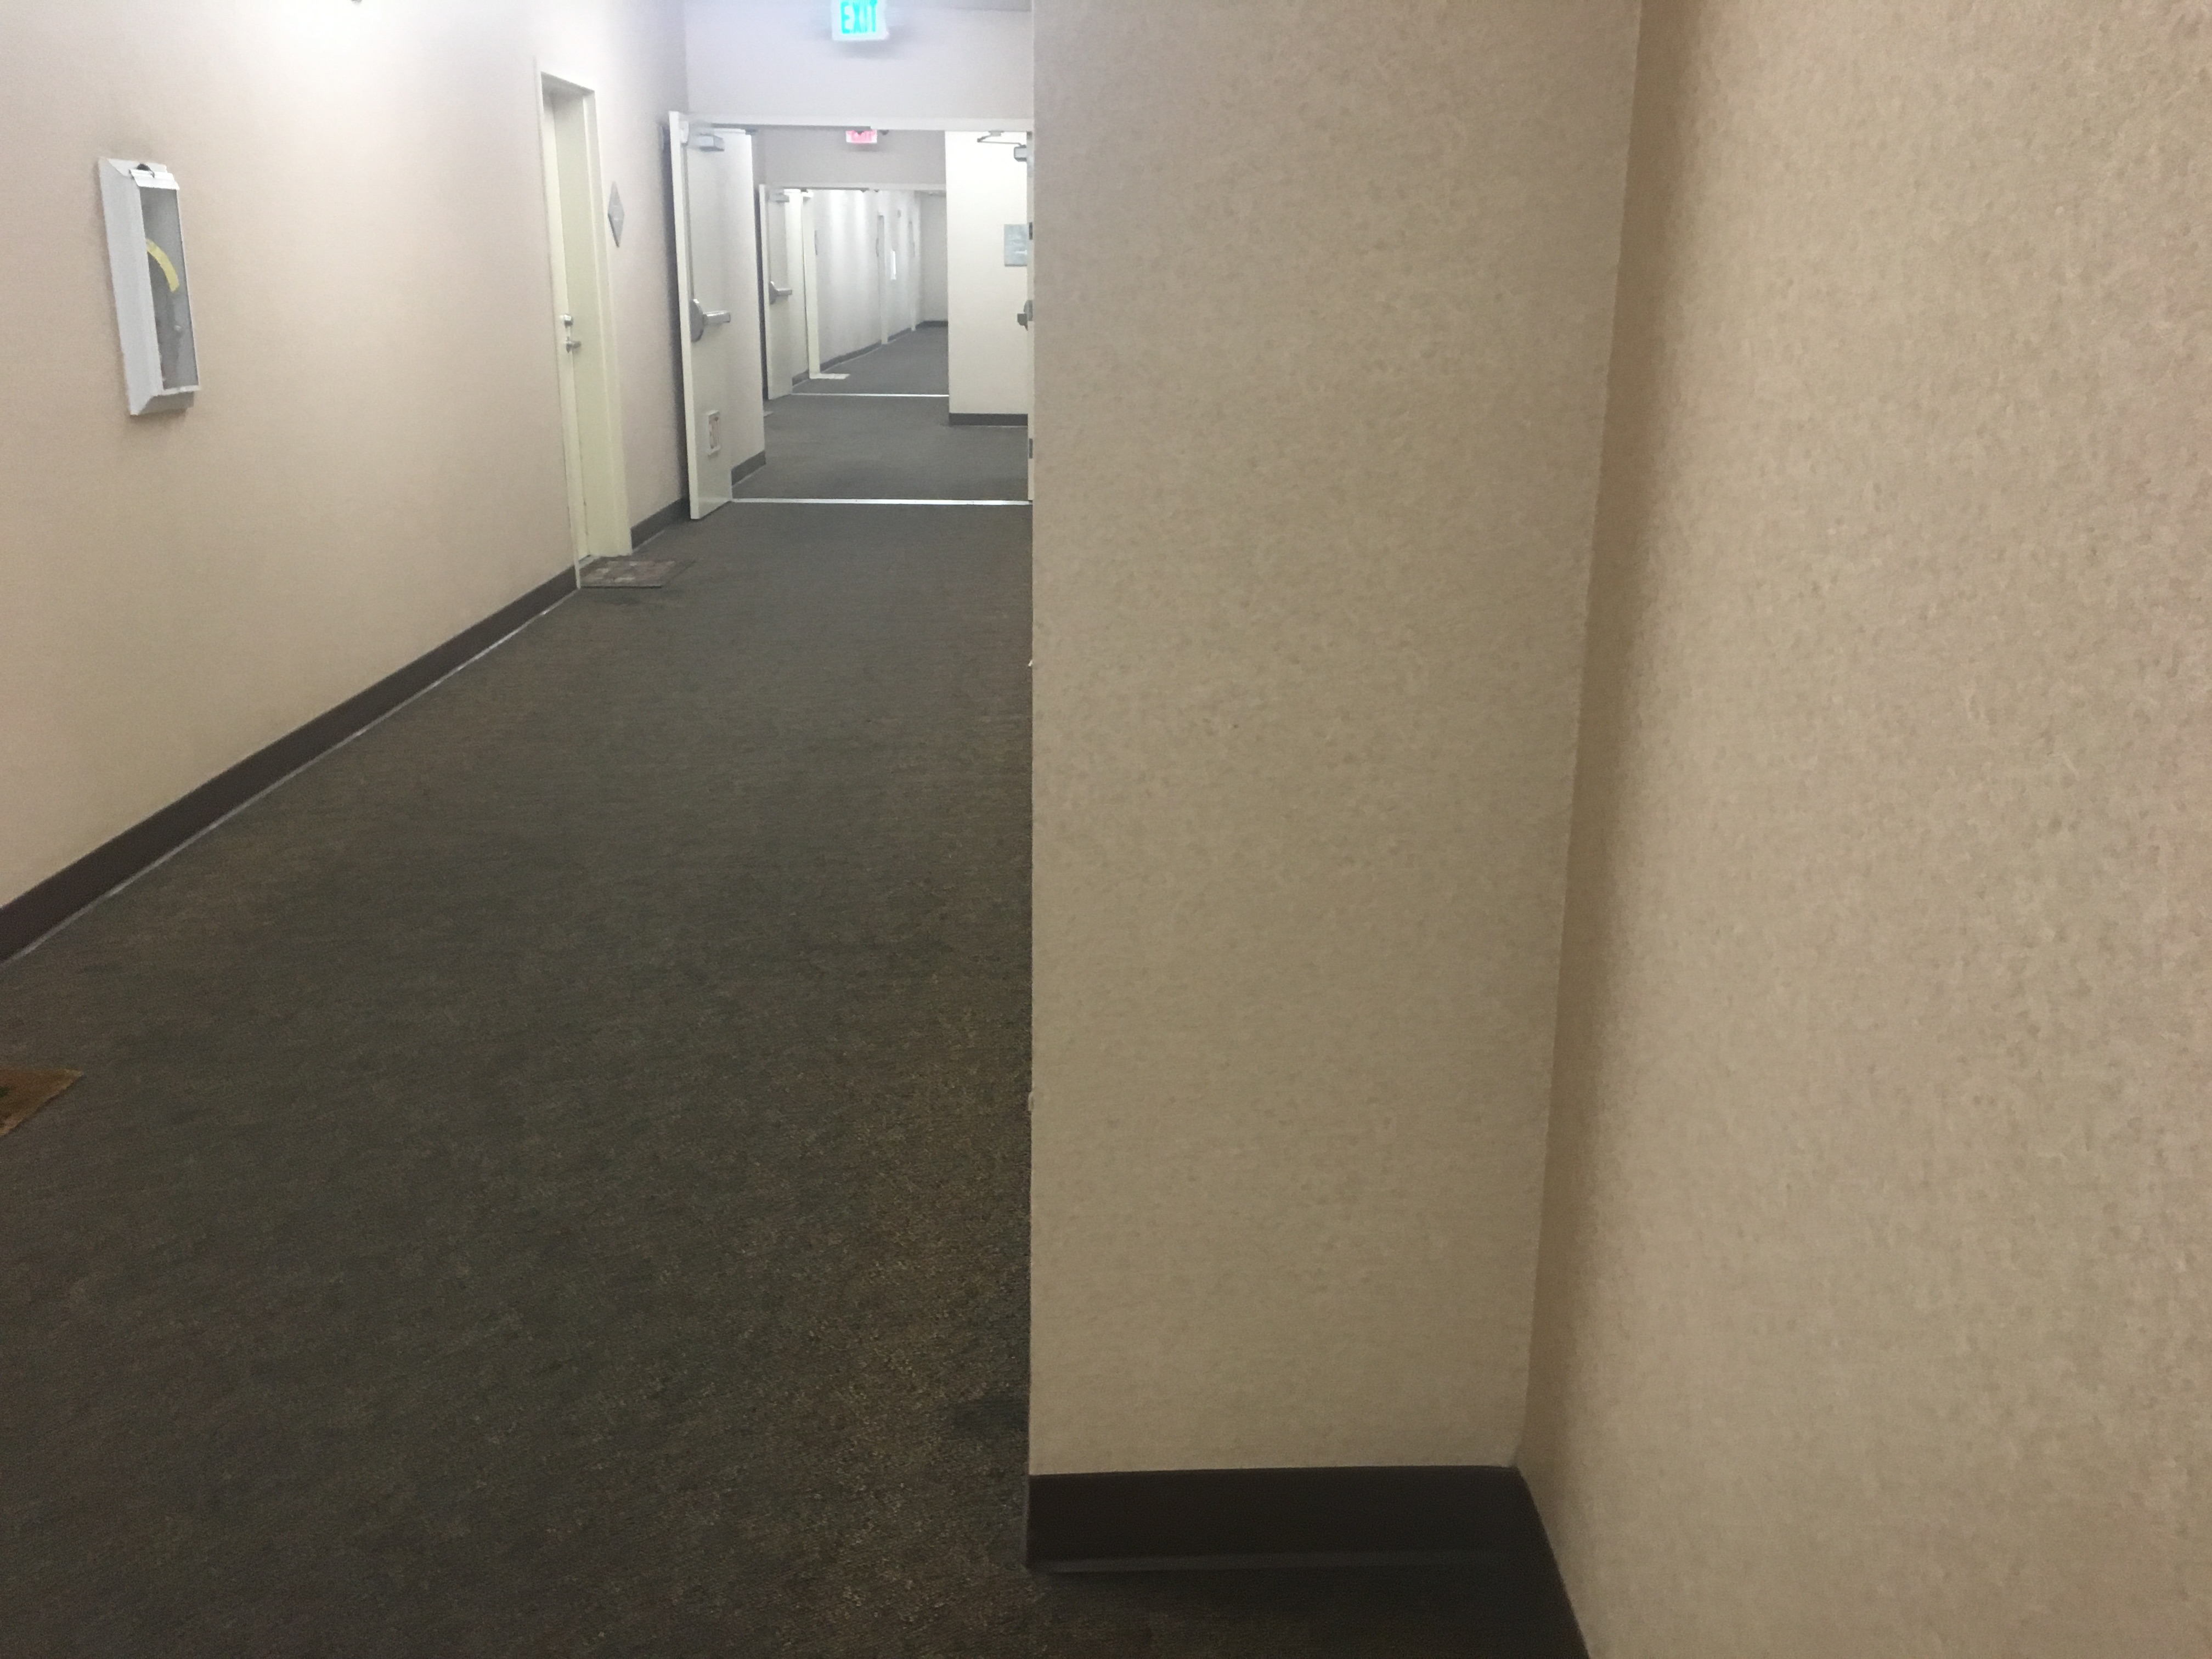Obstacle: (1026, 5, 1642, 1582), (5, 0, 761, 962)
